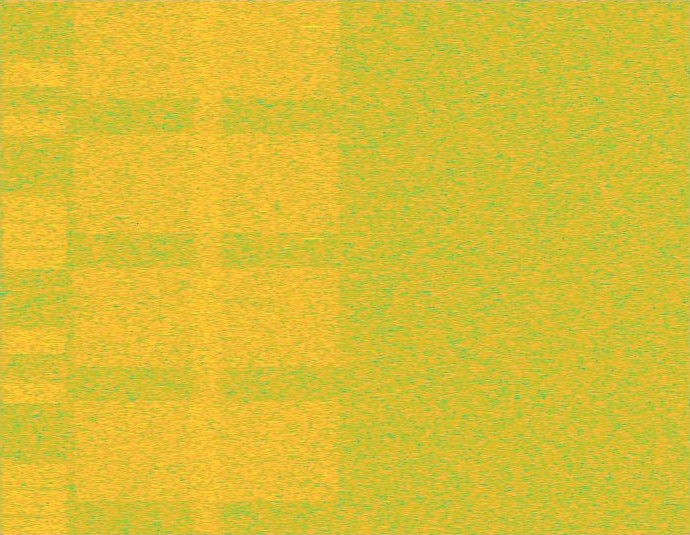5G: (69, 0, 345, 534)
DSSS: (188, 0, 226, 534)
LTE: (0, 0, 69, 534)
Radar: (305, 0, 319, 534)
